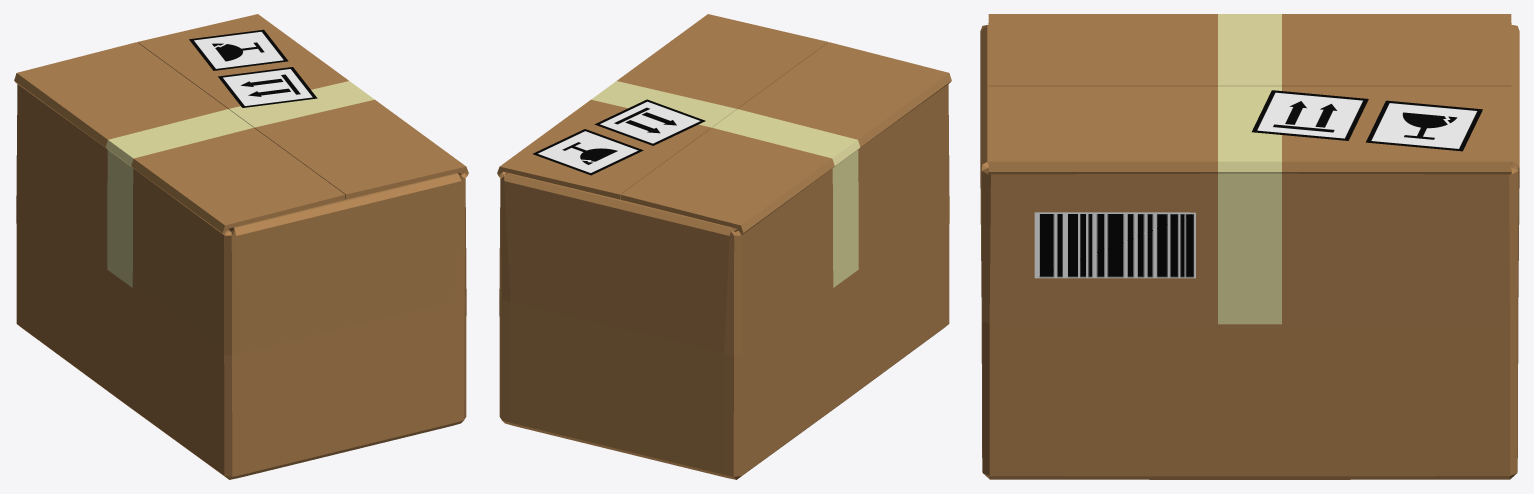
The model's file is Cardboard.021.gltf.
The picture shows the model from 3 angles, left to right: view 1: azimuth 30°, elevation 25°; view 2: azimuth 150°, elevation 25°; view 3: azimuth 270°, elevation 25°; orthographic projection. The views are drawn at different scales.
Parts seen in each view (by area): view 1: Cardboard.021, sign4.011, sign2.015; view 2: Cardboard.021, sign4.011, sign2.015; view 3: Cardboard.021, codeBArre.014, sign4.011, sign2.015.
Boxes of the visible parts, x1,y1,x2,y2 form: Cardboard.021: (14, 14, 468, 479); sign4.011: (189, 29, 288, 70); sign2.015: (218, 67, 317, 107); Cardboard.021: (497, 14, 951, 479); sign4.011: (533, 129, 643, 175); sign2.015: (594, 99, 705, 145); Cardboard.021: (980, 14, 1519, 479); codeBArre.014: (1034, 212, 1195, 278); sign4.011: (1366, 100, 1482, 151); sign2.015: (1252, 90, 1368, 140).
Size of the model in its own units: 0.3856 by 0.3882 by 0.5834.
Materials: 5 (3 with a texture image).
